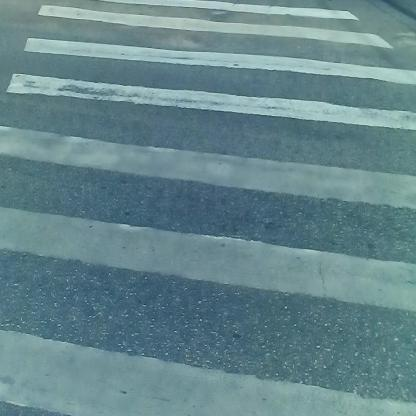crosswalk: (6, 8, 400, 416)
